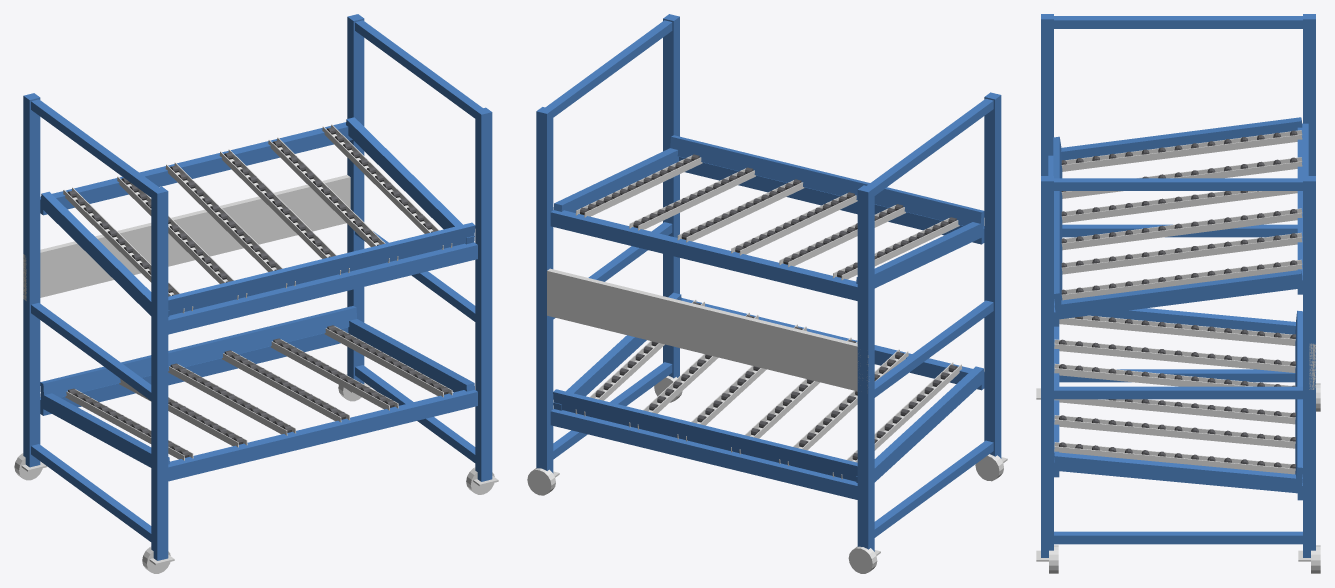
Rendered from bari_flowrack.fbx.
3 views of the same model, side by side, from view 1: azimuth 30°, elevation 25°; view 2: azimuth 150°, elevation 25°; view 3: azimuth 270°, elevation 25° (orthographic). The views are drawn at different scales.
Visible parts, largest first — view 1: RackFrame, RackTracks, RackRollers, RackWheels; view 2: RackFrame, RackTracks, RackRollers, RackWheels; view 3: RackFrame, RackTracks, RackRollers, RackWheels.
Part boxes in pixels (x1=…): RackFrame: x1=23, y1=14, x2=492, y2=560; RackTracks: x1=21, y1=124, x2=498, y2=565; RackRollers: x1=67, y1=127, x2=448, y2=457; RackWheels: x1=14, y1=374, x2=494, y2=573; RackFrame: x1=536, y1=14, x2=1001, y2=551; RackTracks: x1=530, y1=155, x2=1007, y2=559; RackRollers: x1=580, y1=154, x2=957, y2=460; RackWheels: x1=527, y1=375, x2=1003, y2=573; RackFrame: x1=1041, y1=14, x2=1315, y2=557; RackTracks: x1=1036, y1=130, x2=1315, y2=561; RackRollers: x1=1059, y1=130, x2=1297, y2=468; RackWheels: x1=1049, y1=383, x2=1320, y2=573.
Bounding box in the file's own units: 1.29 × 1.36 × 0.89.
